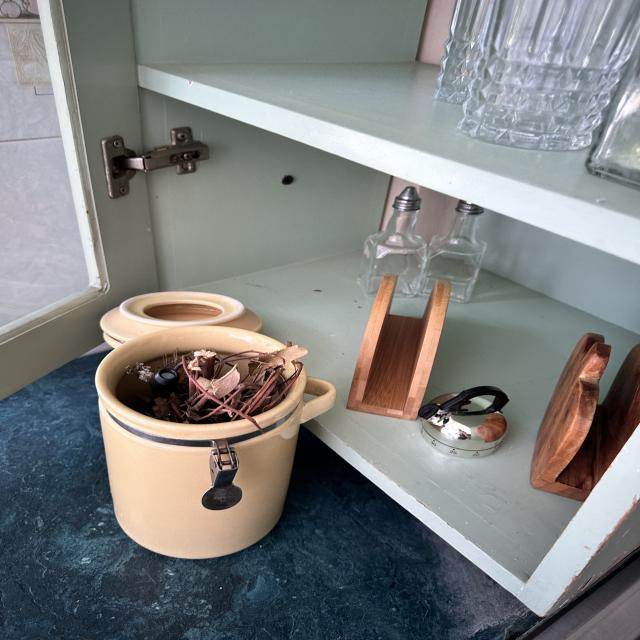hidden camera: (158, 368, 177, 381)
